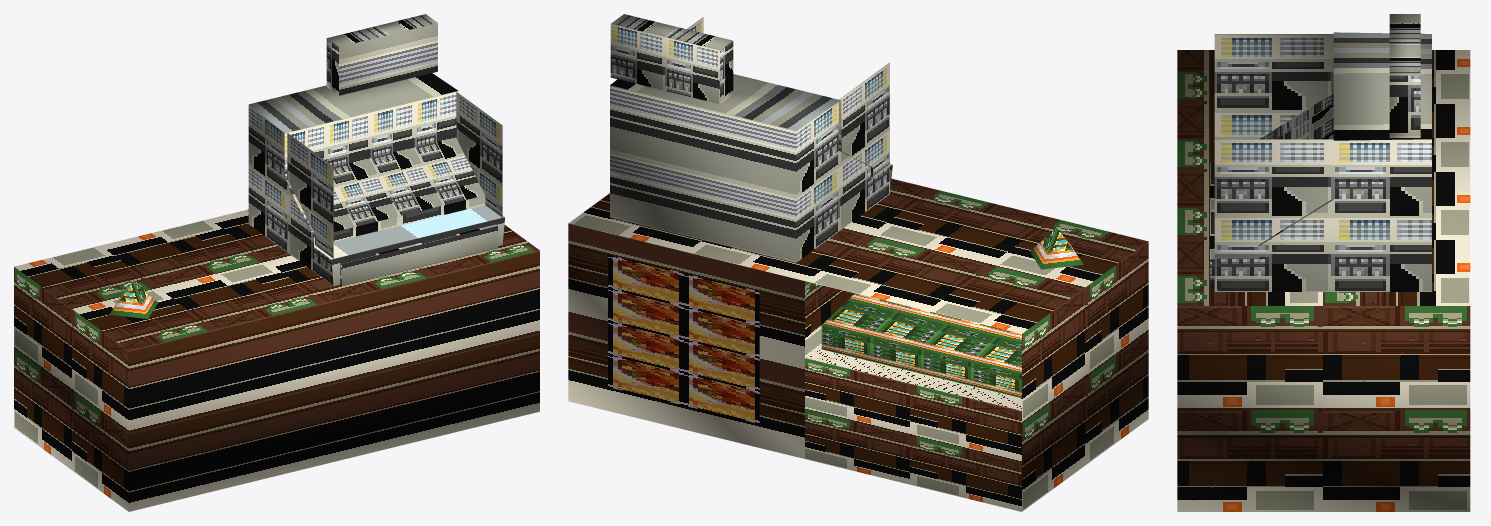
The model's file is 3336IMIG11_05.gltf.
The picture shows the model from 3 angles, left to right: view 1: azimuth 30°, elevation 25°; view 2: azimuth 150°, elevation 25°; view 3: azimuth 270°, elevation 25°; orthographic projection. The views are drawn at different scales.
Parts seen in each view (by area): view 1: 3336IMIG11_05; view 2: 3336IMIG11_05; view 3: 3336IMIG11_05.
Boxes of the visible parts, box(x1,y1,x2,y2) form: 3336IMIG11_05: box(14, 14, 539, 511); 3336IMIG11_05: box(568, 14, 1148, 511); 3336IMIG11_05: box(1177, 14, 1470, 511).
Bounding box in the file's own units: 2 × 1.55 × 0.9888.
4 materials, 4 textured.
